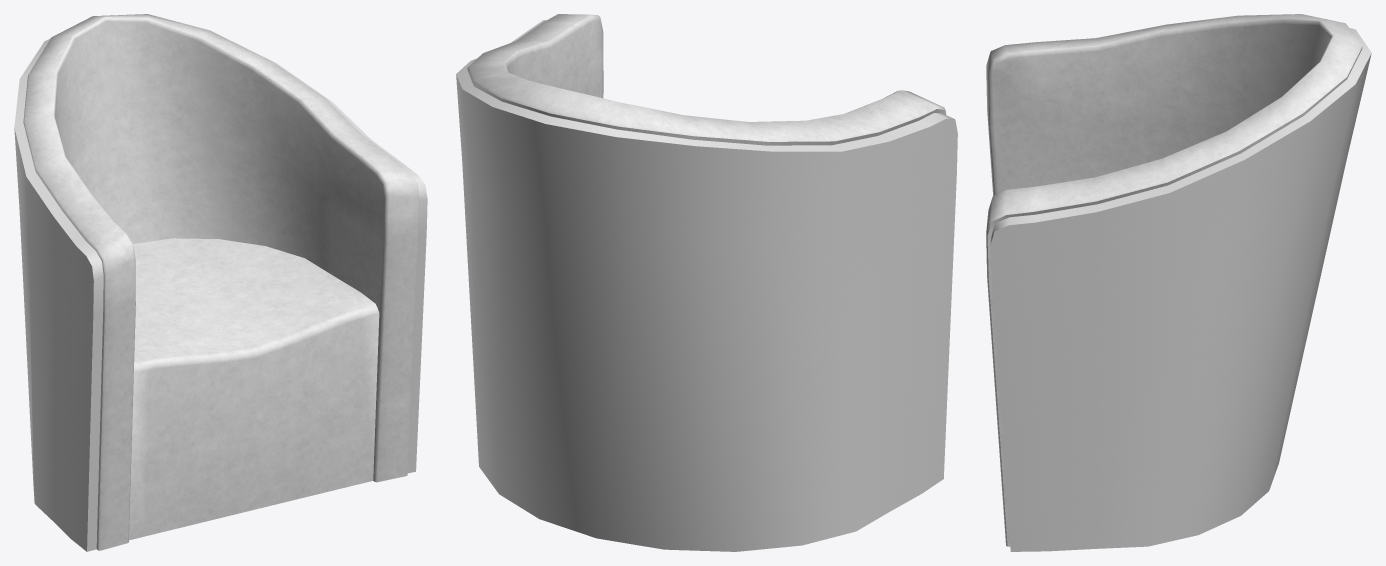
Rendered from ArmChair01.FBX.
3 renders of one model, left to right at view 1: azimuth 30°, elevation 25°; view 2: azimuth 150°, elevation 25°; view 3: azimuth 270°, elevation 25°, orthographic. The views are drawn at different scales.
Visible parts, largest first — view 1: ArmChair01; view 2: ArmChair01; view 3: ArmChair01.
Boxes of the visible parts, <box> form: ArmChair01: <box>14,14,427,551</box>; ArmChair01: <box>456,14,957,551</box>; ArmChair01: <box>986,14,1371,551</box>.
Bounding box in the file's own units: 108 × 119 × 97.53.
